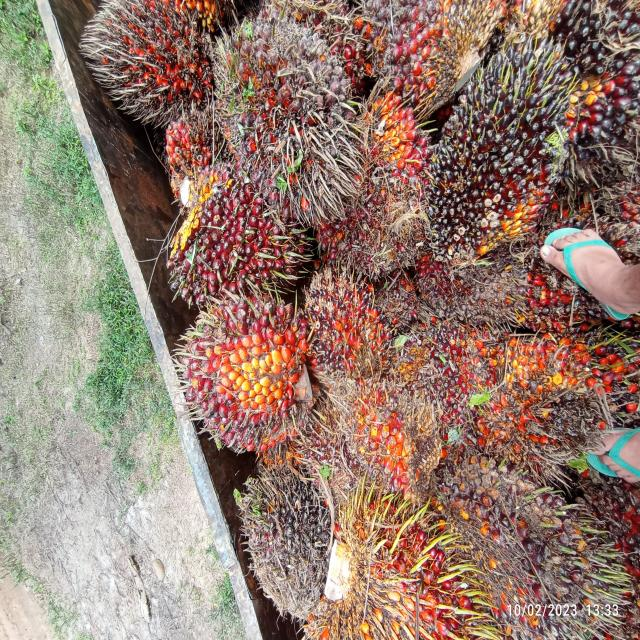fraksi 00: (421, 24, 570, 284), (232, 456, 346, 611)
fraksi 1: (296, 260, 394, 398)
fraksi 3: (295, 489, 501, 640), (321, 74, 441, 285), (160, 297, 315, 455), (158, 155, 320, 306)
fraksi 4: (218, 12, 356, 236), (480, 334, 640, 476), (75, 0, 222, 132)
